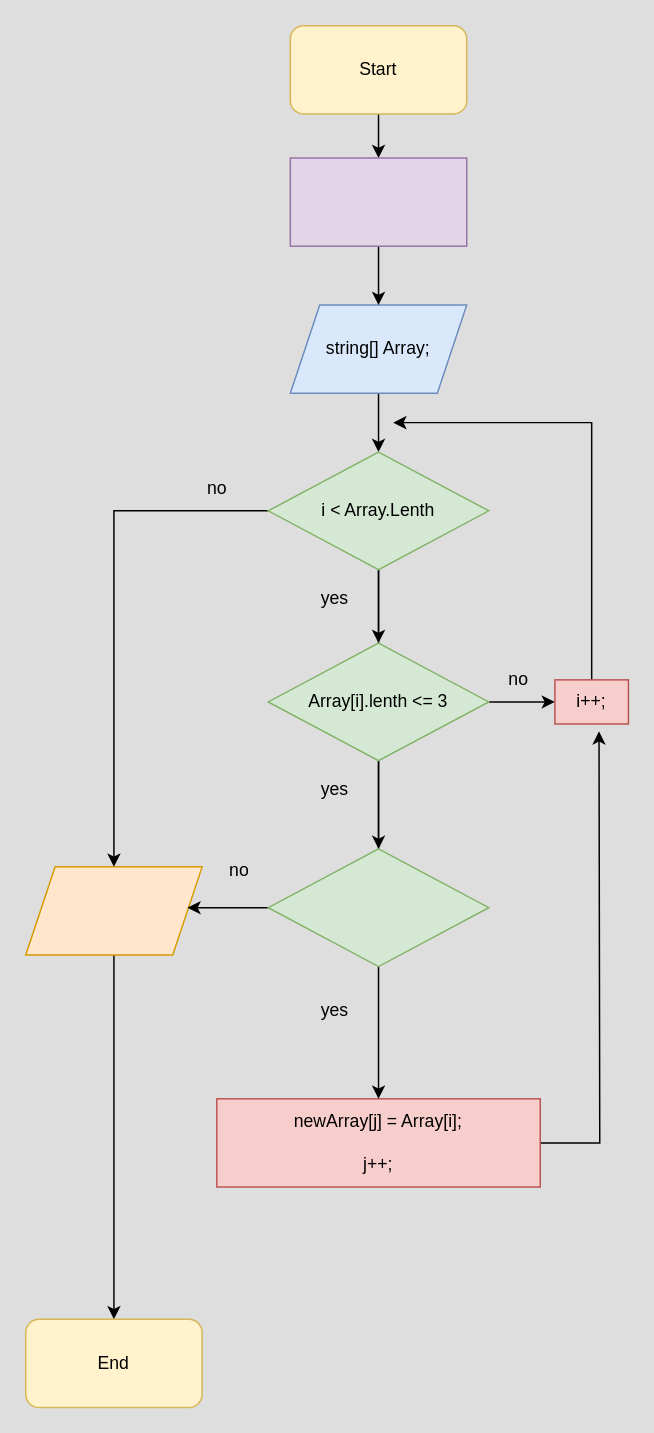
The diagram is 654 pixels wide and 1433 high, and some of its shapes have lost their labels. Here are the shapes that lost their labels. From the top down, the centre of each, then its label:
At point 378,201: "string[] newArray = []; i = 0; j=0;".
At point 113,910: "newArray".
At point 378,907: "j < newArray.Lenth".
